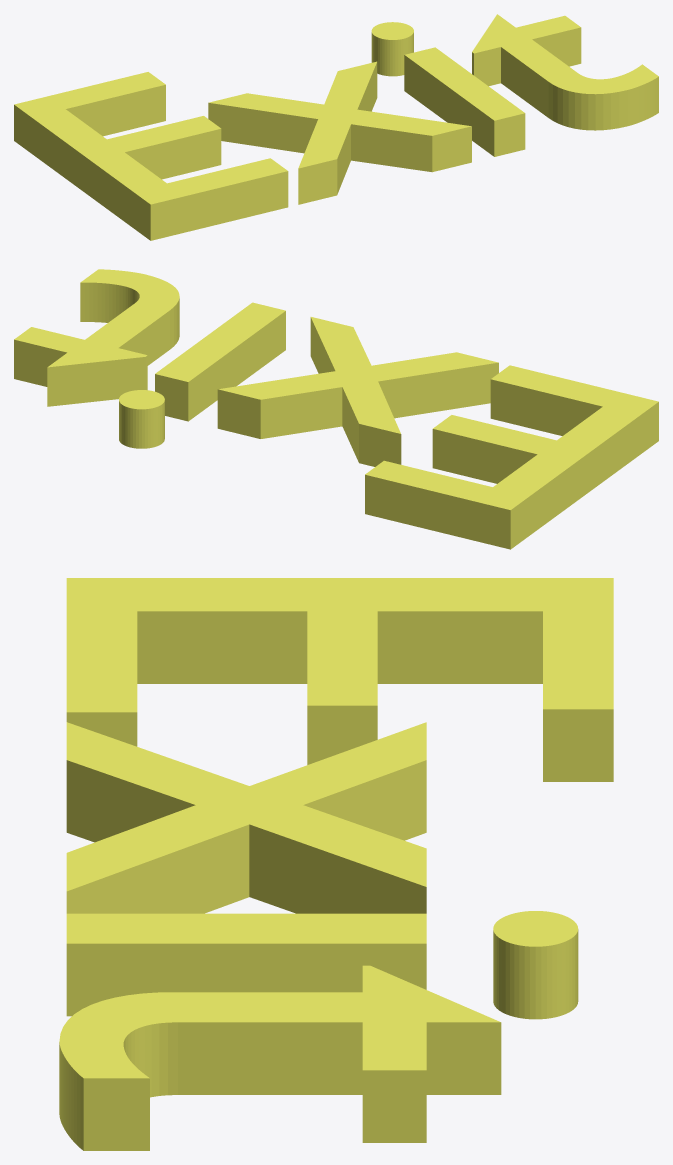
File: hj-exit.obj
The picture shows the model from 3 angles, top to bottom: view 1: azimuth 30°, elevation 25°; view 2: azimuth 150°, elevation 25°; view 3: azimuth 270°, elevation 25°; orthographic projection. The views are drawn at different scales.
Visible parts, largest first — view 1: Text_Text.001; view 2: Text_Text.001; view 3: Text_Text.001.
Part boxes in pixels (x1=…): Text_Text.001: x1=14, y1=14, x2=658, y2=240; Text_Text.001: x1=14, y1=269, x2=658, y2=549; Text_Text.001: x1=59, y1=578, x2=613, y2=1150.
Size of the model in its own units: 1.48 by 0.1 by 0.691.
